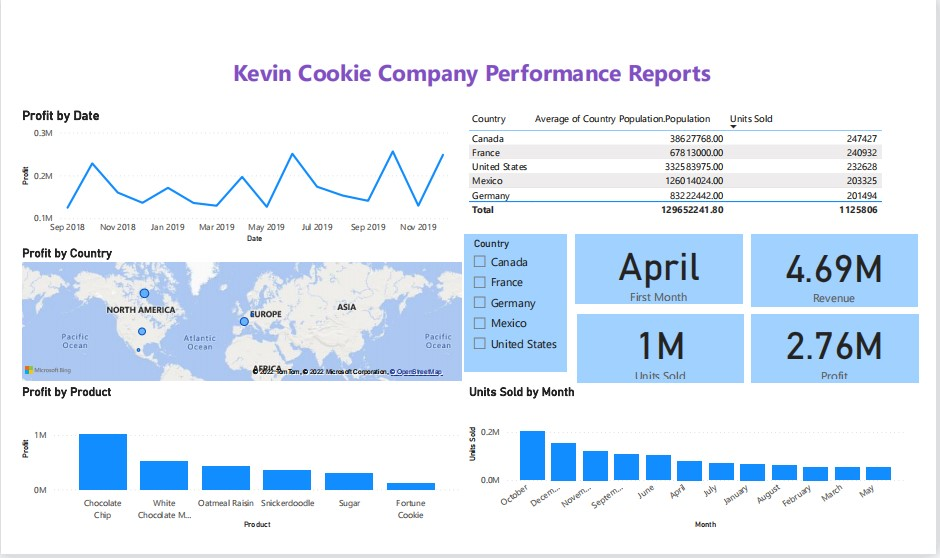

What the dashboard file says about the page in this screenshot:
{"tool":"powerbi","page":{"name":"Profit Analysis","canvas":[1280,720],"ordinal":0},"visuals":[{"type":"textbox","box":[10.1,316.2,238.6,149.5],"z":0},{"type":"textbox","box":[10.1,0,1270.4,120.7],"z":1000},{"type":"lineChart","fields":{"Category":["Cookie Sales.Date"],"Y":["Sum(Cookie Sales.Profit)"]},"box":[10.1,120.9,629.9,194.9],"z":2000},{"type":"map","fields":{"Category":["Cookie Sales.Country"],"Size":["Sum(Cookie Sales.Profit)"]},"box":[10.1,315.8,629.9,194.9],"z":3000},{"type":"tableEx","fields":{"Values":["Cookie Sales.Country","Cookie Sales.Country Population.Population","Sum(Cookie Sales.Units Sold)"]},"box":[639.4,121,623.5,167],"z":4000},{"type":"columnChart","fields":{"Category":["Cookie Sales.Product"],"Y":["Sum(Cookie Sales.Profit)"]},"box":[10.1,511.6,629.5,208.4],"z":5000},{"type":"slicer","fields":{"Values":["Cookie Sales.Country"]},"box":[639.4,299.5,144,194.4],"z":6000},{"type":"clusteredColumnChart","fields":{"Y":["Sum(Cookie Sales.Units Sold)"],"Category":["Cookie Sales.Month"]},"box":[640,512,624,208],"z":6001},{"type":"card","fields":{"Values":["Min(Cookie Sales.Month)"]},"box":[796.3,299.5,236.2,97.9],"z":6002},{"type":"card","fields":{"Values":["Sum(Cookie Sales.Units Sold)"]},"box":[797.8,413.3,234.7,96.5],"z":6003},{"type":"card","fields":{"Values":["Sum(Cookie Sales.Revenue)"]},"box":[1044,299.5,234.7,102.2],"z":6004},{"type":"card","fields":{"Values":["Sum(Cookie Sales.Profit)"]},"box":[1044,413.3,236.2,96.5],"z":6005}]}

Visuals, with their boxes on the page's 1280x720 design canvas (x1, y1, x2, y2). These are canvas units, not pixel positions in the 940x558 screenshot, which may show the page scaled, cropped or inside an application window:
textbox: {"x1": 10, "y1": 316, "x2": 249, "y2": 466}
textbox: {"x1": 10, "y1": 0, "x2": 1280, "y2": 121}
lineChart - Cookie Sales.Date x Sum(Cookie Sales.Profit): {"x1": 10, "y1": 121, "x2": 640, "y2": 316}
map - Cookie Sales.Country x Sum(Cookie Sales.Profit): {"x1": 10, "y1": 316, "x2": 640, "y2": 511}
tableEx - Cookie Sales.Country x Cookie Sales.Country Population.Population: {"x1": 639, "y1": 121, "x2": 1263, "y2": 288}
columnChart - Cookie Sales.Product x Sum(Cookie Sales.Profit): {"x1": 10, "y1": 512, "x2": 640, "y2": 720}
slicer - Cookie Sales.Country: {"x1": 639, "y1": 300, "x2": 783, "y2": 494}
clusteredColumnChart - Sum(Cookie Sales.Units Sold) x Cookie Sales.Month: {"x1": 640, "y1": 512, "x2": 1264, "y2": 720}
card - Min(Cookie Sales.Month): {"x1": 796, "y1": 300, "x2": 1032, "y2": 397}
card - Sum(Cookie Sales.Units Sold): {"x1": 798, "y1": 413, "x2": 1032, "y2": 510}
card - Sum(Cookie Sales.Revenue): {"x1": 1044, "y1": 300, "x2": 1279, "y2": 402}
card - Sum(Cookie Sales.Profit): {"x1": 1044, "y1": 413, "x2": 1280, "y2": 510}
